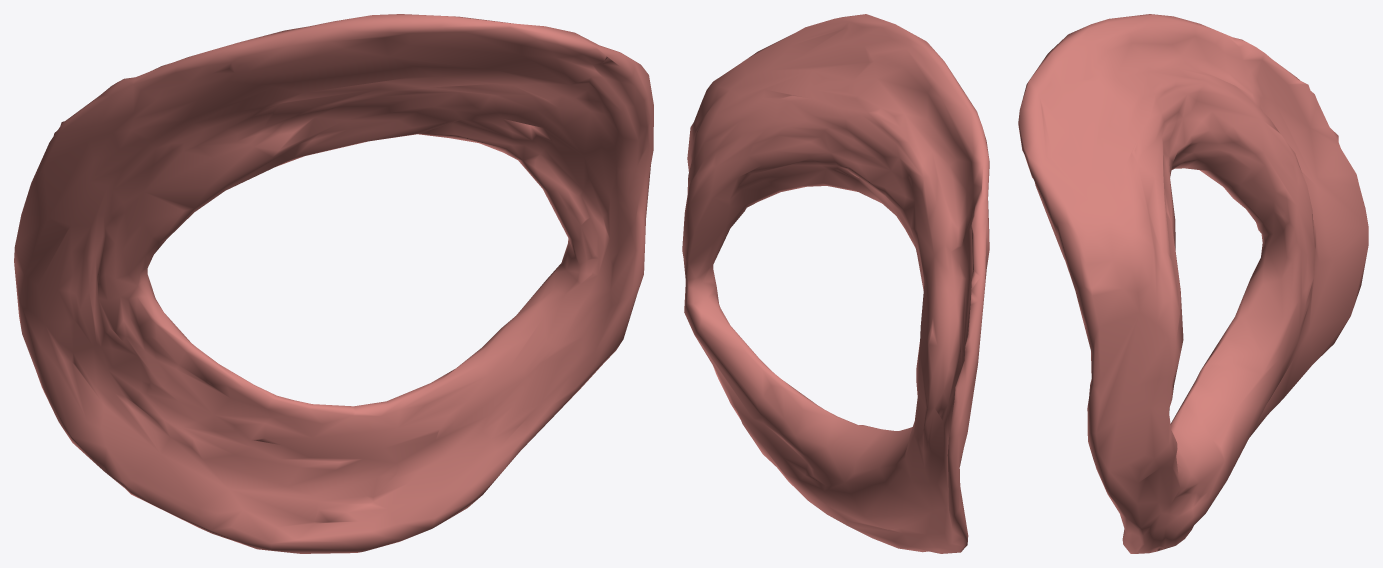
The picture shows the model from 3 angles, left to right: view 1: azimuth 30°, elevation 25°; view 2: azimuth 150°, elevation 25°; view 3: azimuth 270°, elevation 25°; orthographic projection. The views are drawn at different scales.
Parts seen in each view (by area): view 1: ZA_29b7f43f8aa7be7d; view 2: ZA_29b7f43f8aa7be7d; view 3: ZA_29b7f43f8aa7be7d.
Boxes of the visible parts, <box> form: ZA_29b7f43f8aa7be7d: <box>14,14,653,553</box>; ZA_29b7f43f8aa7be7d: <box>682,14,989,553</box>; ZA_29b7f43f8aa7be7d: <box>1018,14,1368,553</box>.
Bounding box in the file's own units: 0.0443 × 0.0497 × 0.0314.
